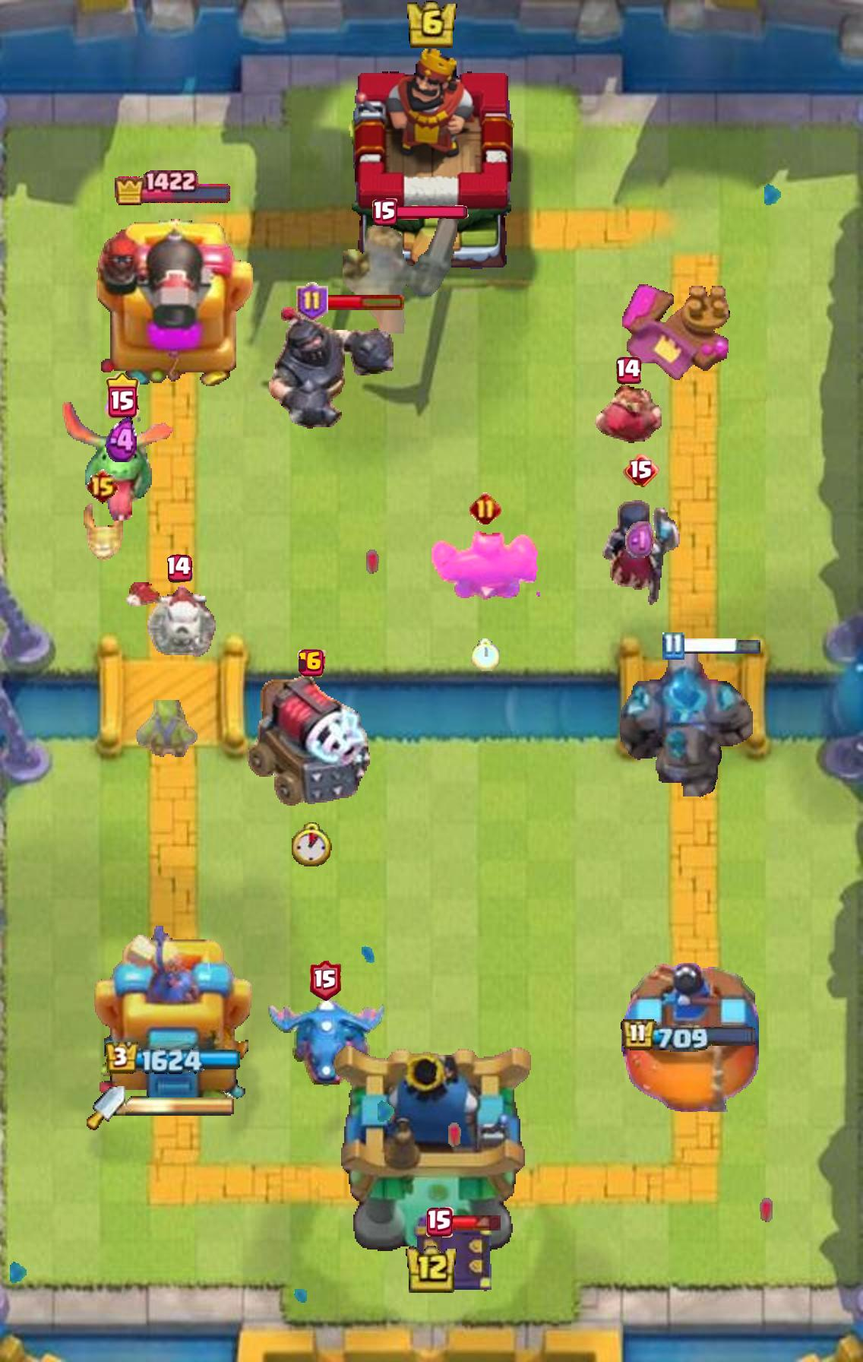bar: (324, 293, 405, 311), (393, 204, 469, 220), (450, 1213, 503, 1231)
bar-level: (105, 372, 141, 418), (309, 960, 341, 1001), (85, 468, 120, 505), (296, 282, 328, 321), (623, 454, 659, 487), (469, 493, 501, 524), (426, 1207, 454, 1237), (297, 649, 326, 677), (167, 554, 193, 583), (616, 357, 642, 385), (372, 198, 397, 226)
